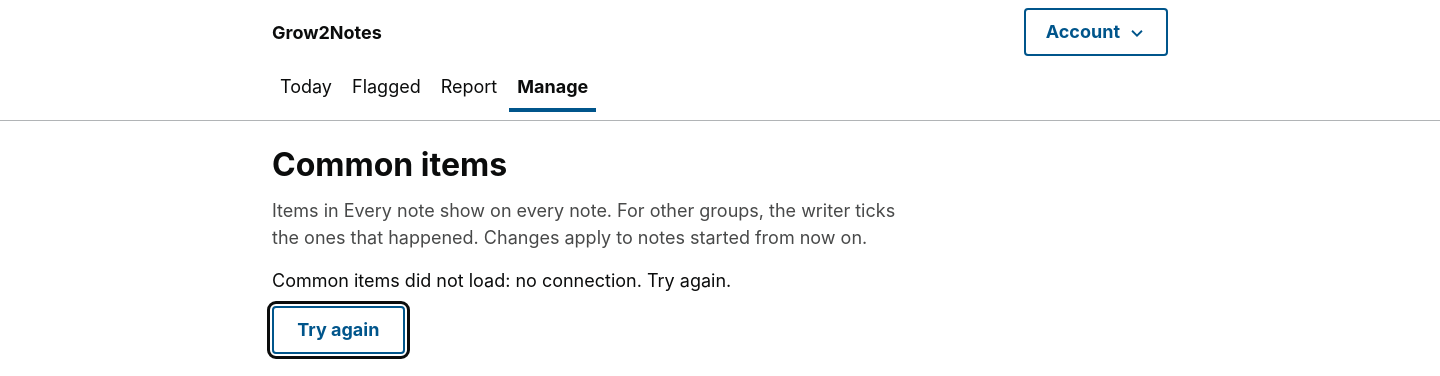
Test case: Common items while the list loads › says the items still did not load after a Try again that fails, with focus on Try again
Click the button "Try again" at (338,330), box [272,306,405,354]
Wait 1001 ms
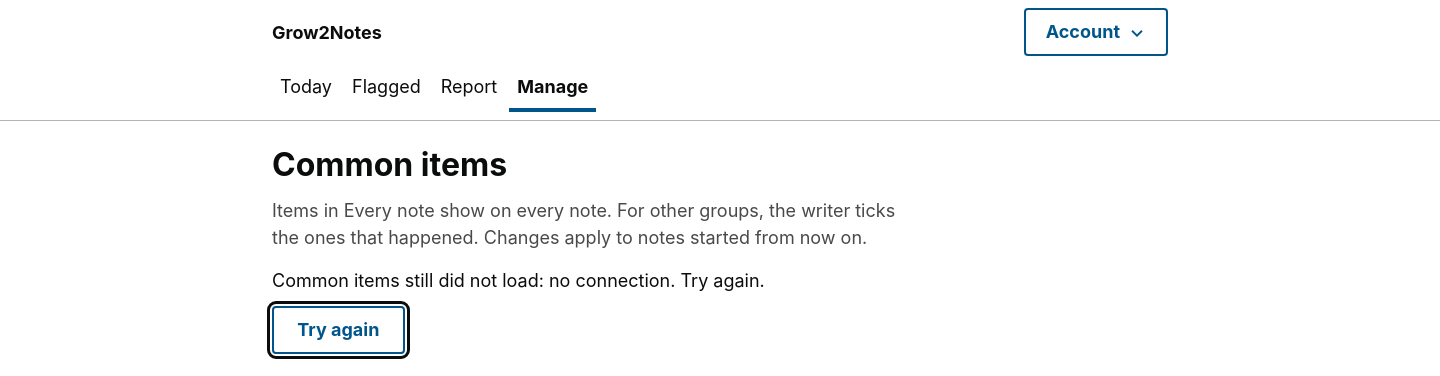
Result: the message reads "Common items still did not load: no connection. Try again." at [272,270,765,291]
